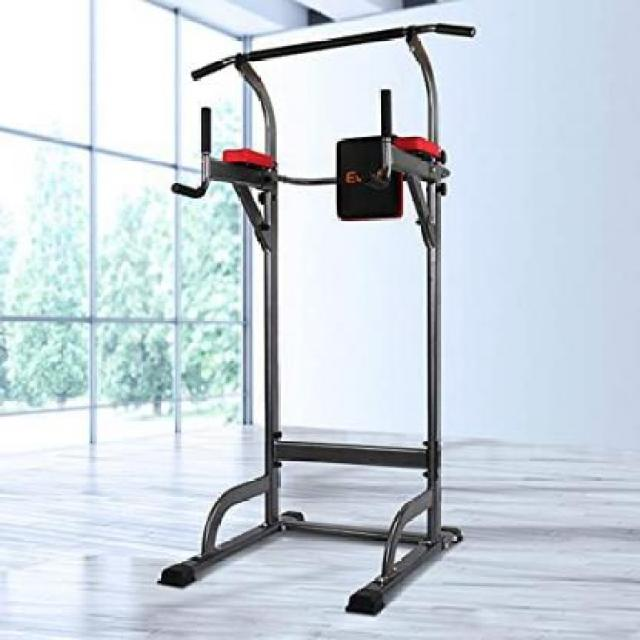chinning dipping: (162, 24, 476, 616)
